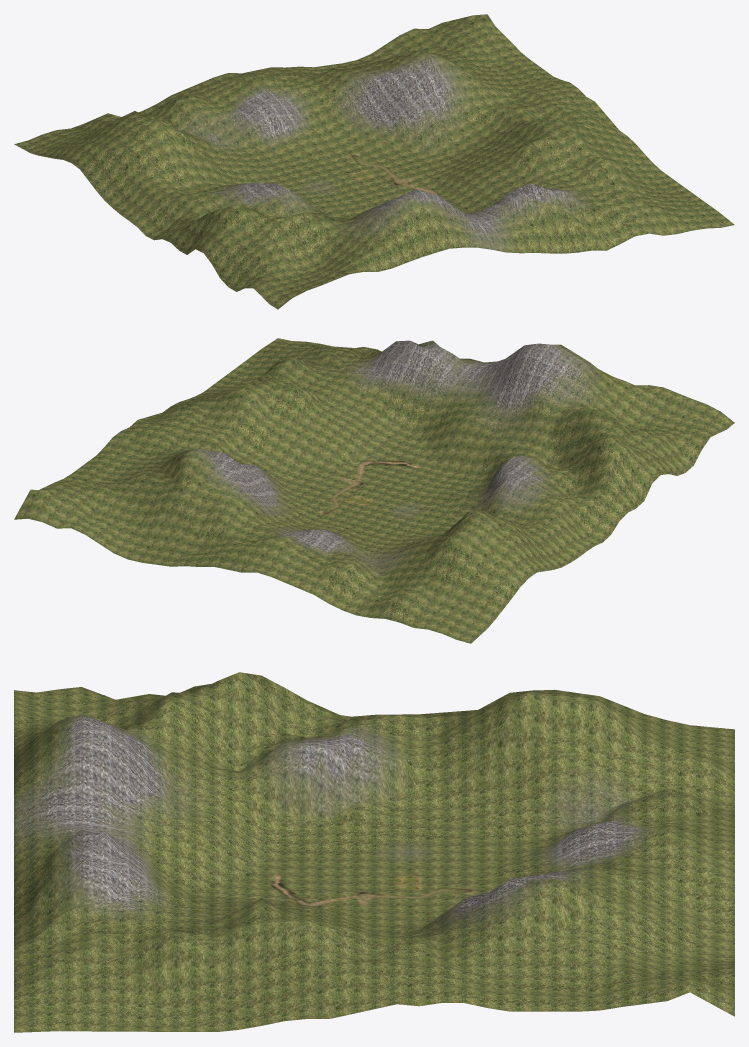
The picture shows the model from 3 angles, top to bottom: view 1: azimuth 30°, elevation 25°; view 2: azimuth 150°, elevation 25°; view 3: azimuth 270°, elevation 25°; orthographic projection. The views are drawn at different scales.
Visible parts, largest first — view 1: Mesh; view 2: Mesh; view 3: Mesh.
Boxes of the visible parts, bbox=[...] form: Mesh: bbox=[14, 14, 734, 309]; Mesh: bbox=[14, 338, 734, 643]; Mesh: bbox=[14, 672, 734, 1032].
Bounding box in the file's own units: 600 × 107 × 600.
1 material, 1 textured.
